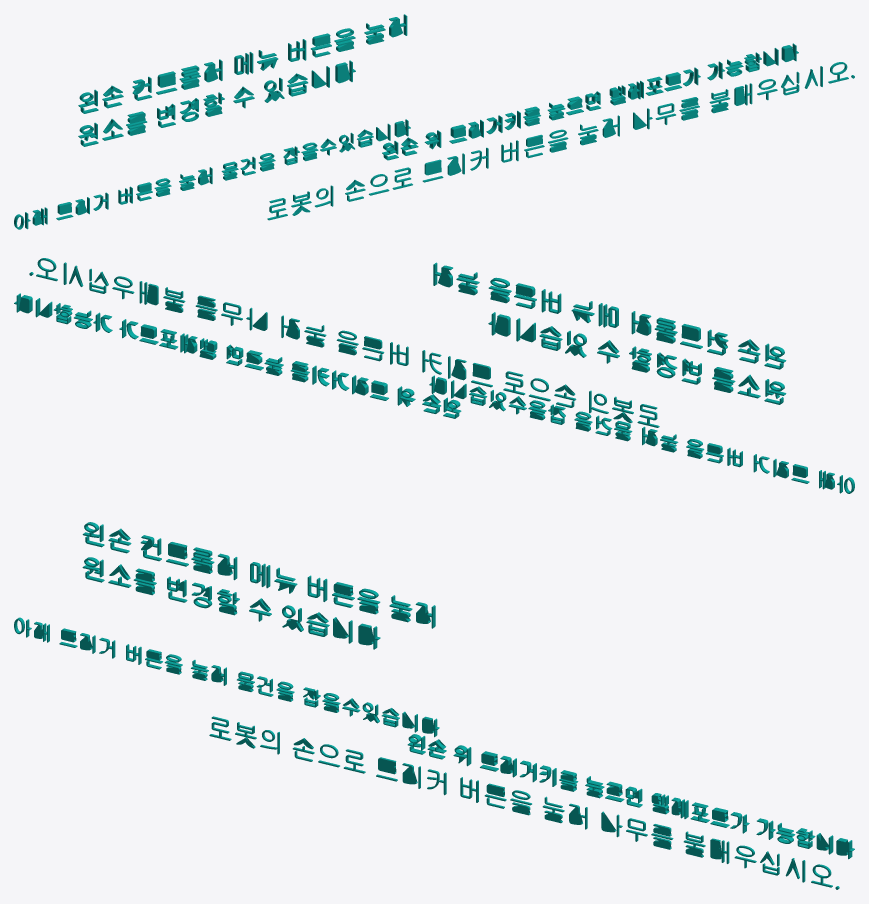
3 views of the same model, one above another, from view 1: azimuth 30°, elevation 25°; view 2: azimuth 150°, elevation 25°; view 3: azimuth 330°, elevation 25° (orthographic). The views are drawn at different scales.
Parts seen in each view (by area): view 1: typeMesh2, typeMesh1, typeMesh6, typeMesh4; view 2: typeMesh2, typeMesh1, typeMesh6, typeMesh4; view 3: typeMesh2, typeMesh1, typeMesh6, typeMesh4.
Part boxes in pixels (left/top/right/bottom): typeMesh2: left=78, top=14, right=407, bottom=146; typeMesh1: left=267, top=62, right=854, bottom=220; typeMesh6: left=382, top=43, right=798, bottom=160; typeMesh4: left=14, top=119, right=410, bottom=229; typeMesh2: left=433, top=262, right=786, bottom=404; typeMesh1: left=29, top=258, right=659, bottom=427; typeMesh6: left=14, top=293, right=461, bottom=418; typeMesh4: left=429, top=375, right=854, bottom=493; typeMesh2: left=82, top=522, right=435, bottom=649; typeMesh1: left=209, top=716, right=839, bottom=889; typeMesh6: left=407, top=734, right=854, bottom=859; typeMesh4: left=14, top=617, right=439, bottom=737.
Size of the model in its own units: 51.04 by 8.5 by 4.1.
